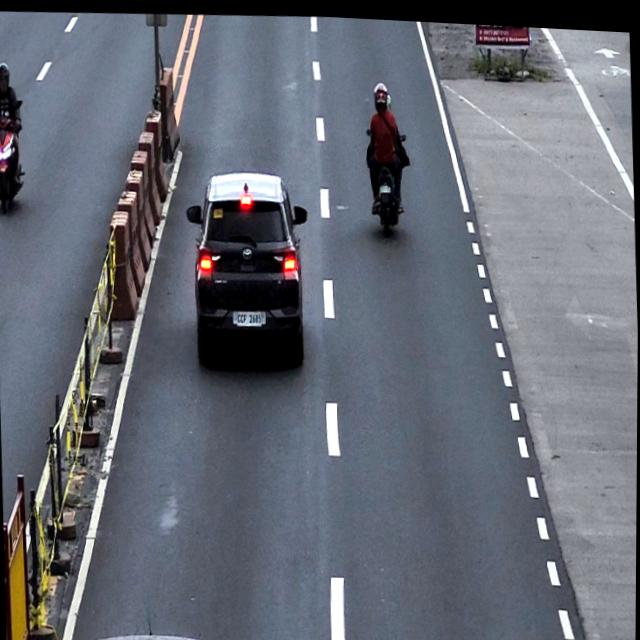Car: (183, 163, 313, 368)
License-Plate: (232, 304, 267, 325), (379, 178, 392, 191)
Motorcycle: (365, 122, 412, 233), (0, 97, 26, 214)
